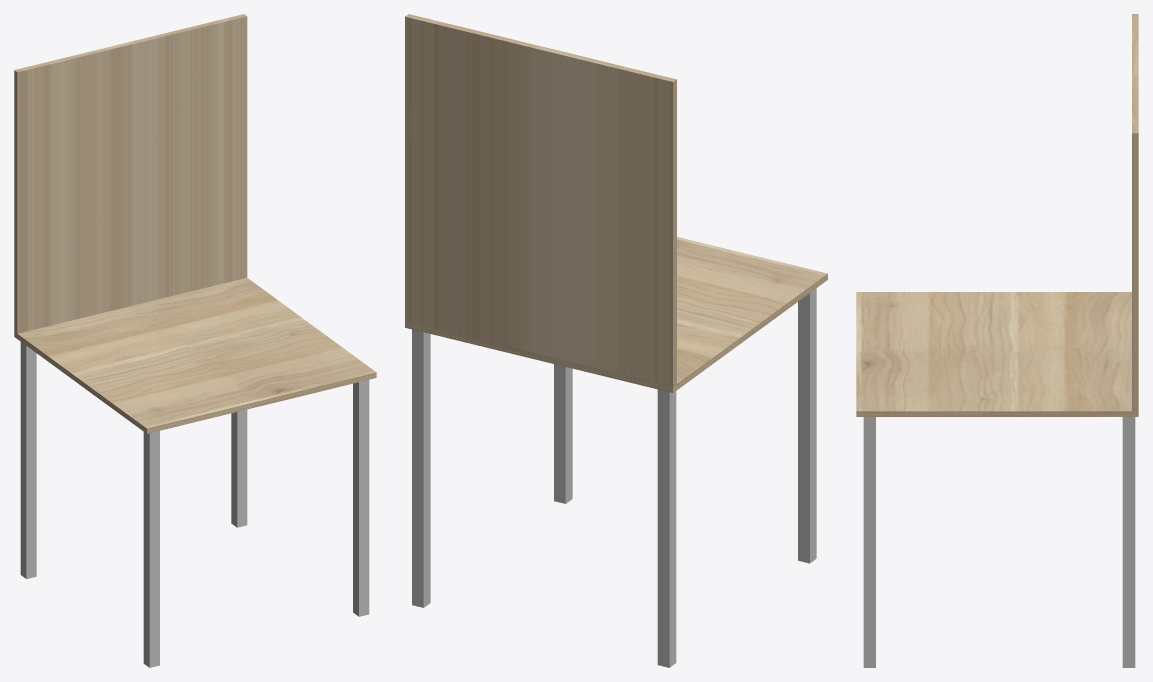
The model's file is chair.fbx.
3 renders of one model, left to right at view 1: azimuth 30°, elevation 25°; view 2: azimuth 150°, elevation 25°; view 3: azimuth 270°, elevation 25°, orthographic. The views are drawn at different scales.
Visible parts, largest first — view 1: polySurface4, polySurface6, polySurface5, polySurface8, polySurface7; view 2: polySurface4, polySurface8, polySurface7, polySurface6, polySurface5; view 3: polySurface4, polySurface7, polySurface5.
Boxes of the visible parts, x1,y1,x2,y2 form: polySurface4: (14,14,376,433); polySurface6: (143,431,159,667); polySurface5: (353,380,369,616); polySurface8: (20,342,36,578); polySurface7: (231,409,247,527); polySurface4: (405,14,827,392); polySurface8: (657,389,676,667); polySurface7: (412,329,430,607); polySurface6: (798,288,816,563); polySurface5: (554,364,572,503); polySurface4: (856,14,1138,416); polySurface7: (1122,417,1135,667); polySurface5: (863,417,875,667).
Bounding box in the file's own units: 0.45 × 0.9441 × 0.45.
